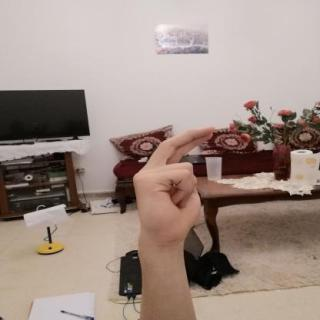ZAY: (124, 120, 226, 250)
